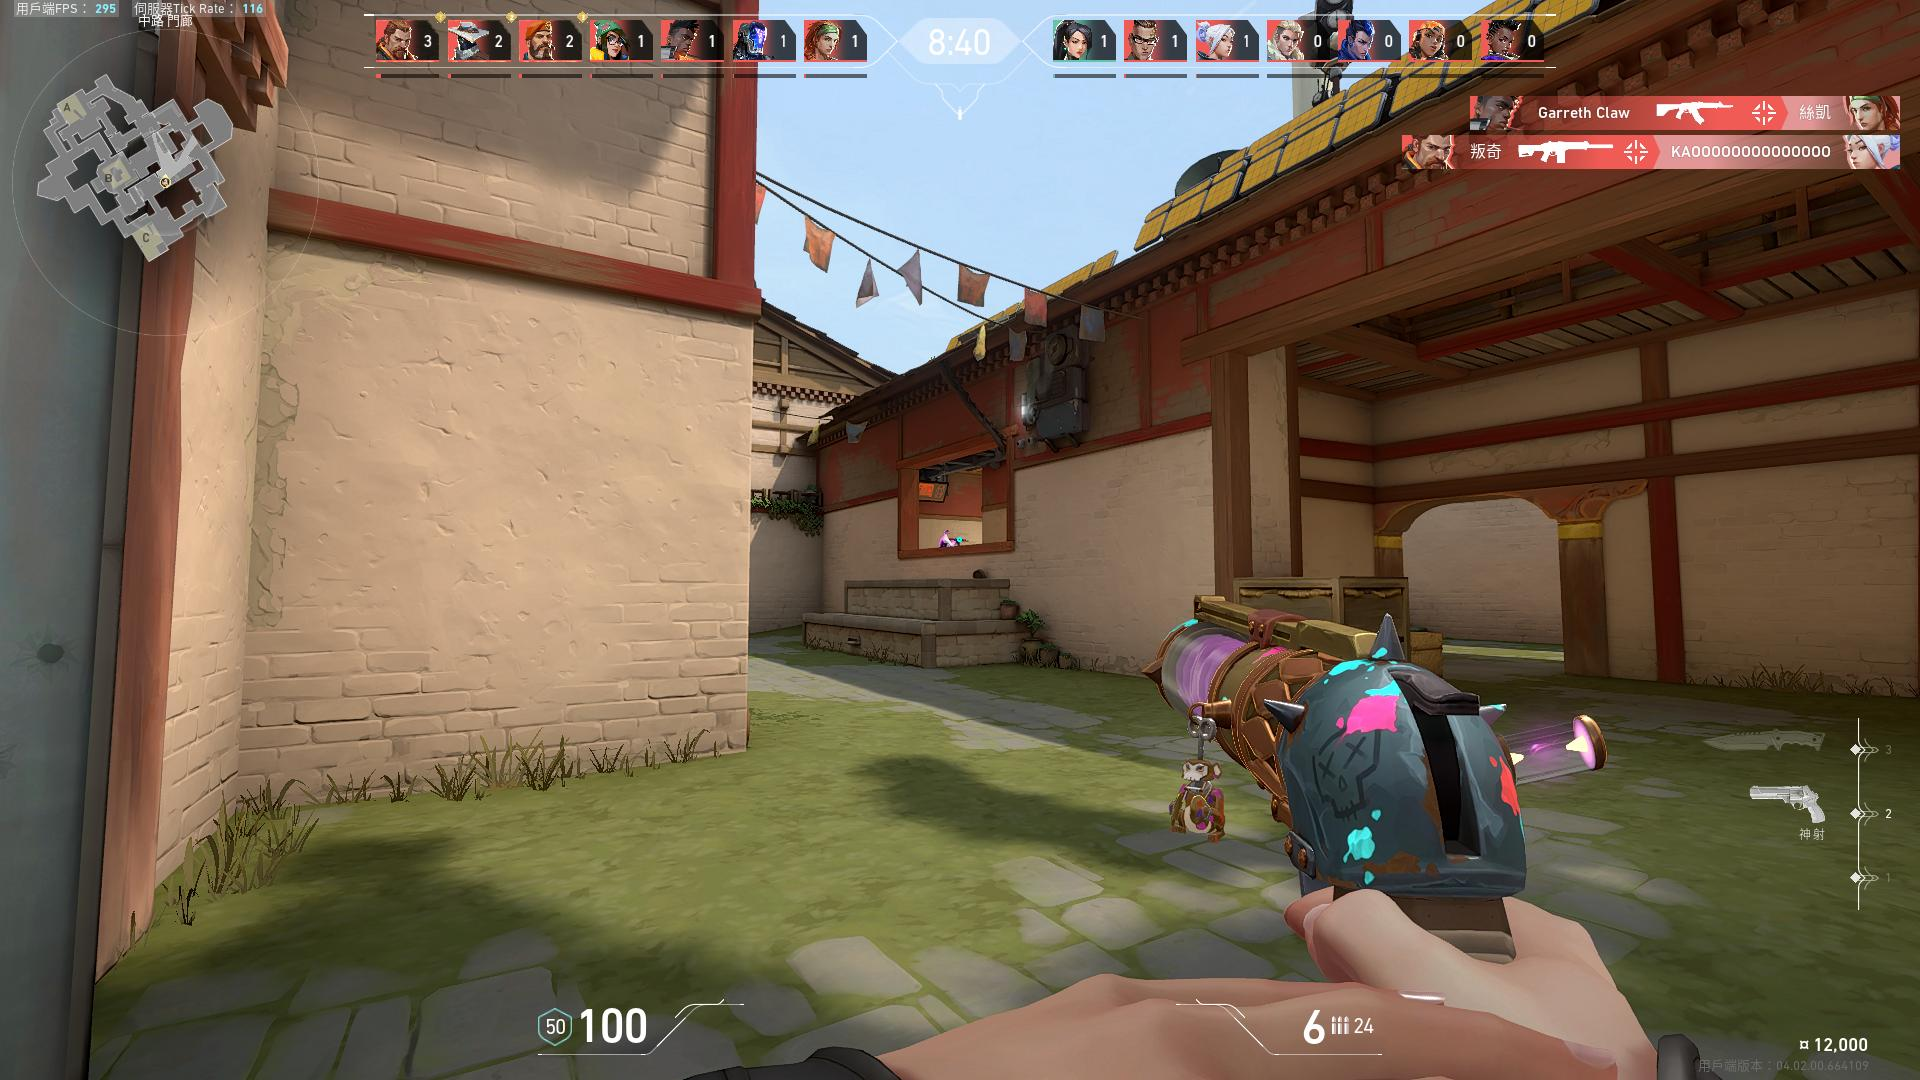enemyBody: (942, 537, 947, 546)
enemyHead: (945, 531, 948, 535)
